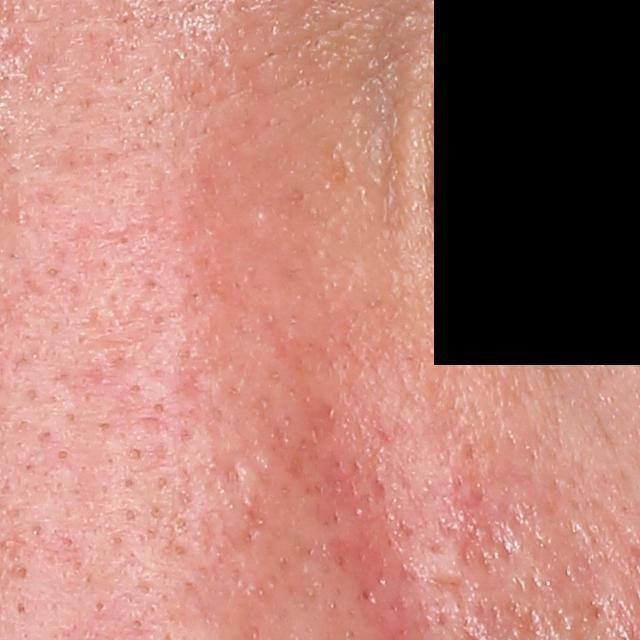comedo: (12, 563, 30, 583), (126, 445, 145, 462), (54, 447, 72, 463), (27, 522, 43, 539), (121, 507, 136, 525), (153, 400, 167, 415), (16, 600, 28, 617), (96, 420, 112, 432), (155, 475, 167, 489)
